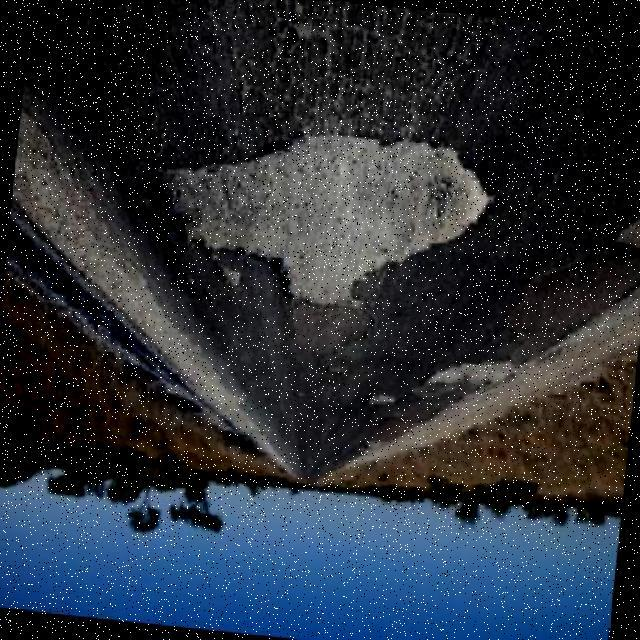Pothole: (149, 132, 492, 303), (425, 361, 517, 388), (606, 214, 640, 255), (214, 262, 243, 289), (365, 393, 395, 404)
